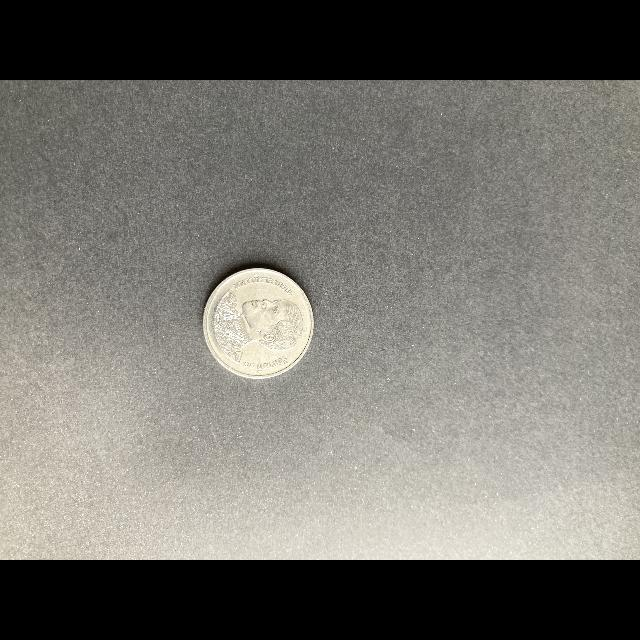1 Bath: (204, 267, 317, 382)
